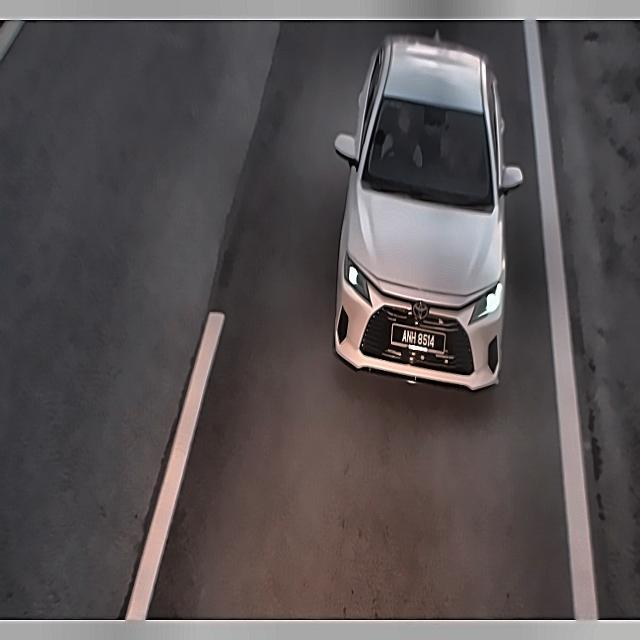car: (389, 319, 448, 363)
